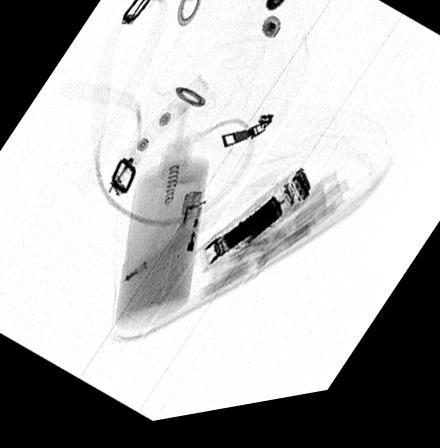Lighter: (163, 197, 208, 309)
